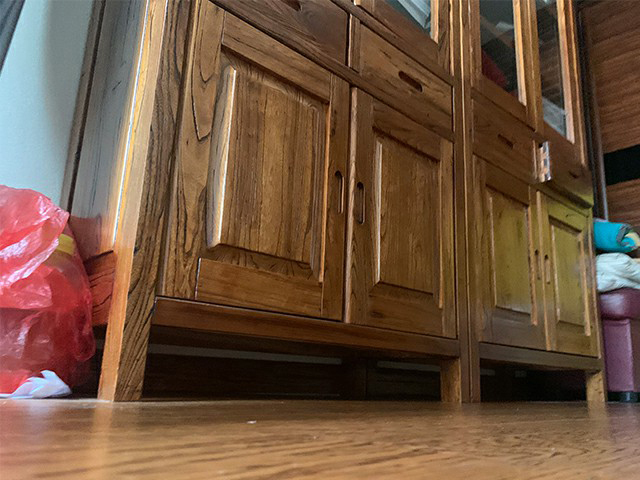cabinet: (61, 1, 608, 407)
